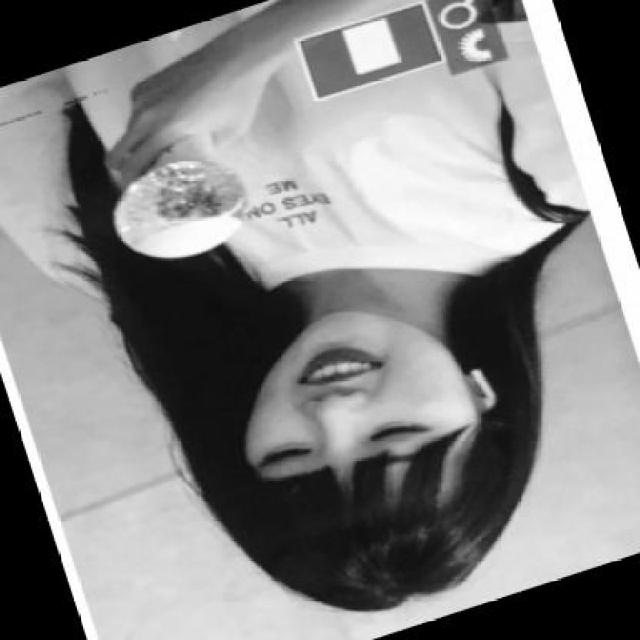earphone: (457, 326, 502, 431)
